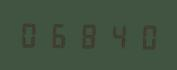eight: (74, 19, 101, 50)
four: (102, 20, 129, 50)
six: (46, 19, 73, 49)
zero: (18, 18, 45, 49), (130, 20, 157, 51)
